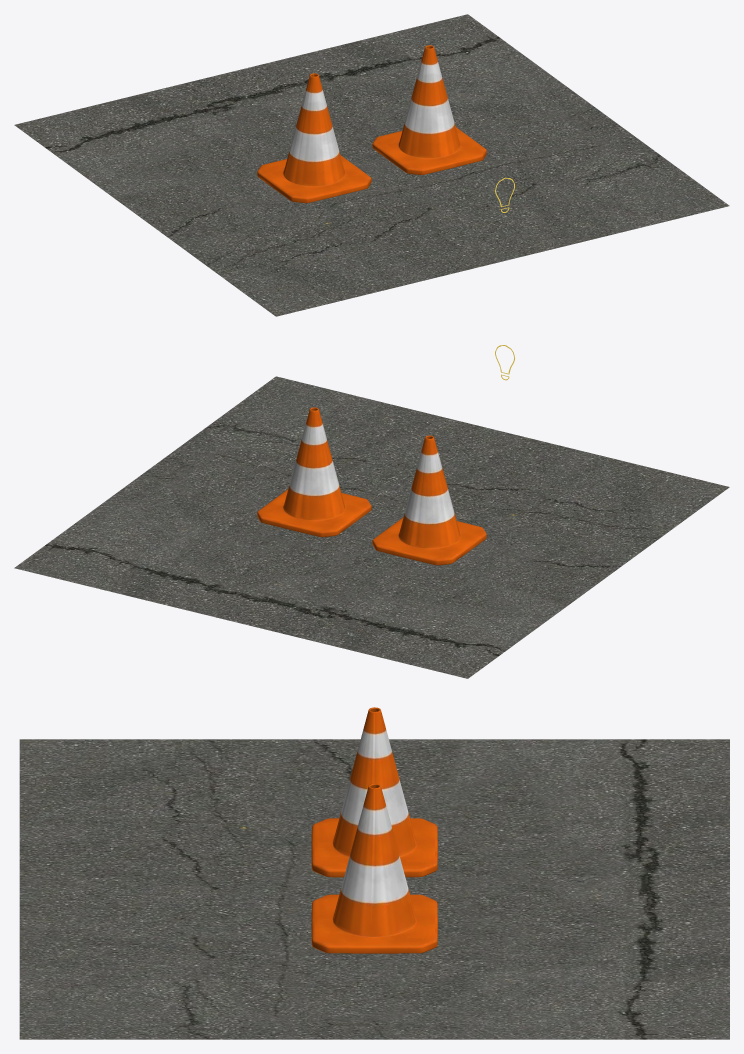
File: street.glb
The picture shows the model from 3 angles, top to bottom: view 1: azimuth 30°, elevation 25°; view 2: azimuth 150°, elevation 25°; view 3: azimuth 270°, elevation 25°; orthographic projection. The views are drawn at different scales.
Visible parts, largest first — view 1: GroundPlane, Cone Retroreflection, Cone Normal; view 2: GroundPlane, Cone Normal, Cone Retroreflection; view 3: GroundPlane, Cone Normal, Cone Retroreflection.
Boxes of the visible parts, <box> form: GroundPlane: <box>14,14,729,316</box>; Cone Retroreflection: <box>257,73,371,203</box>; Cone Normal: <box>372,45,486,174</box>; GroundPlane: <box>14,376,729,678</box>; Cone Normal: <box>257,407,371,537</box>; Cone Retroreflection: <box>372,435,486,565</box>; GroundPlane: <box>19,739,729,1039</box>; Cone Normal: <box>311,783,437,953</box>; Cone Retroreflection: <box>311,707,437,877</box>.
Bounding box in the file's own units: 2.36 × 0.5193 × 2.38.
Materials: 3 (2 with a texture image).
